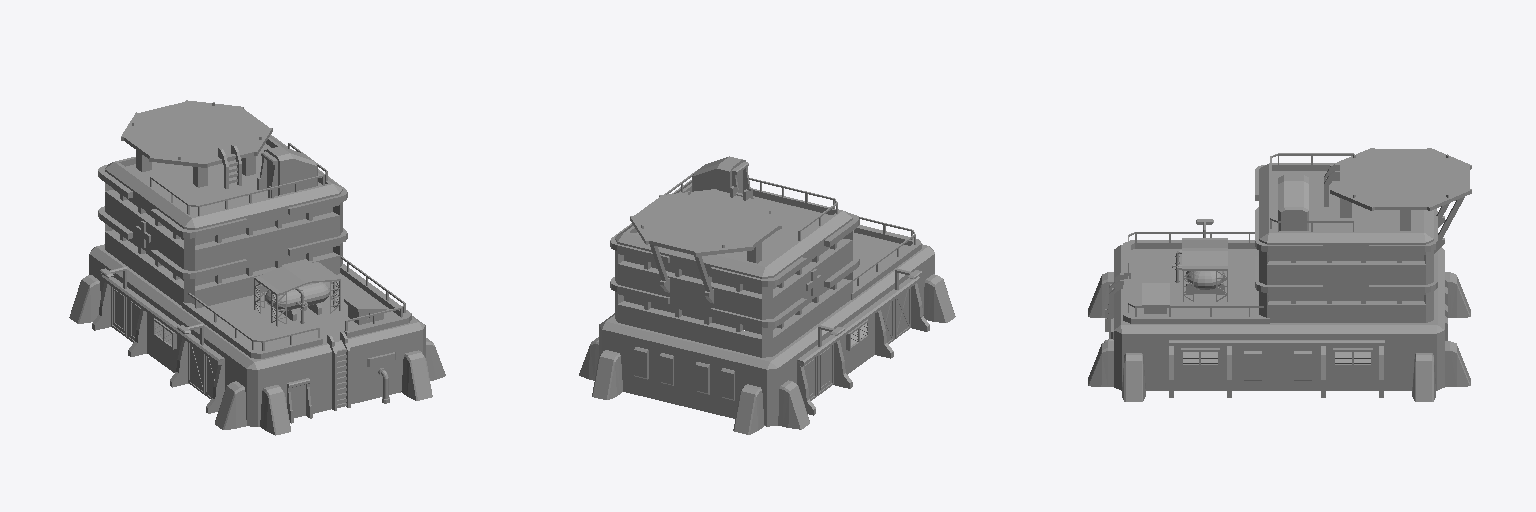
Rendered from hospital_building.obj.
3 views of the same model, side by side, from view 1: azimuth 30°, elevation 25°; view 2: azimuth 150°, elevation 25°; view 3: azimuth 270°, elevation 25° (orthographic).
Parts seen in each view (by area): view 1: Cube.052_Cube.048; view 2: Cube.052_Cube.048; view 3: Cube.052_Cube.048.
Part boxes in pixels (left/top/right/bottom): Cube.052_Cube.048: left=69, top=100, right=445, bottom=435; Cube.052_Cube.048: left=579, top=156, right=955, bottom=434; Cube.052_Cube.048: left=1088, top=148, right=1471, bottom=401.
Bounding box in the file's own units: 4.25 × 3.32 × 6.25.